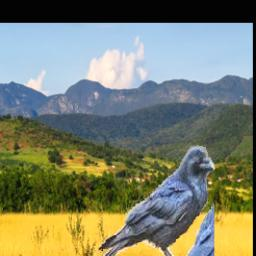Crow: (94, 145, 215, 256)
